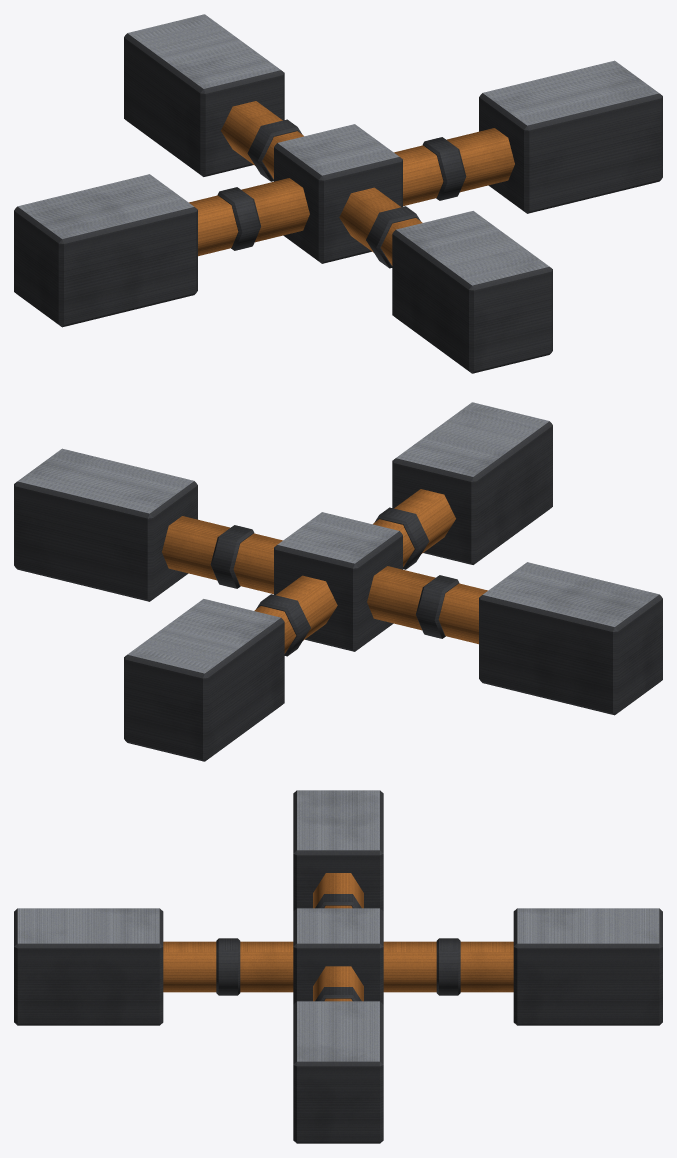
File: R4C_ROD_PLUS_LOD1.glb
The picture shows the model from 3 angles, top to bottom: view 1: azimuth 30°, elevation 25°; view 2: azimuth 150°, elevation 25°; view 3: azimuth 270°, elevation 25°; orthographic projection. The views are drawn at different scales.
Parts seen in each view (by area): view 1: R4C_ROD_PLUS_LOD1; view 2: R4C_ROD_PLUS_LOD1; view 3: R4C_ROD_PLUS_LOD1.
Boxes of the visible parts, x1,y1,x2,y2 form: R4C_ROD_PLUS_LOD1: [14, 14, 662, 373]; R4C_ROD_PLUS_LOD1: [14, 402, 662, 761]; R4C_ROD_PLUS_LOD1: [14, 790, 662, 1143].
Bounding box in the file's own units: 1.62 × 0.226 × 1.62.
3 materials, 3 textured.
